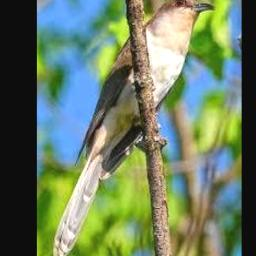Cuckoo: (52, 0, 213, 256)
